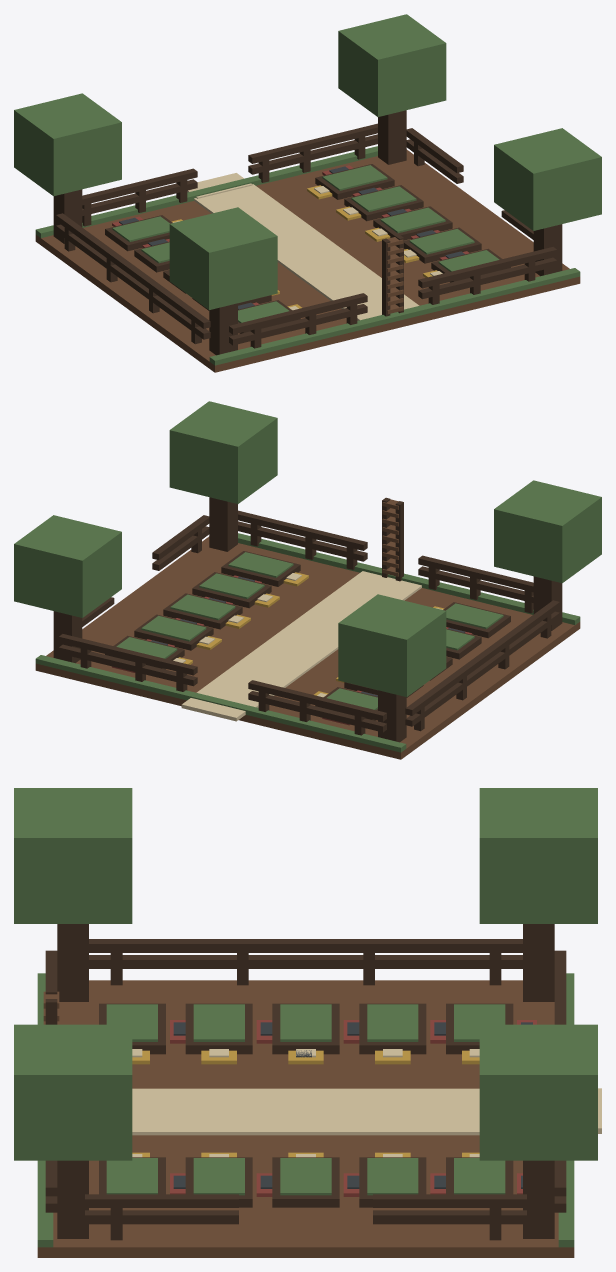
File: KLC_ForestPlot_Floor01.fbx
The picture shows the model from 3 angles, top to bottom: view 1: azimuth 30°, elevation 25°; view 2: azimuth 150°, elevation 25°; view 3: azimuth 270°, elevation 25°; orthographic projection. The views are drawn at different scales.
Visible parts, largest first — view 1: F01_MainDeck, F01_TreeLeaves_1, F01_TreeLeaves_2, F01_TreeLeaves_0, F01_TreeLeaves_3, F01_CenterPath, F01_GrassRimBack, F01_GrassRimFront, F01_FenceLeftTop, F01_FenceLeftLow, F01_FenceBackTop_L, F01_TreeTrunk_2 (+26 smaller); view 2: F01_MainDeck, F01_TreeLeaves_0, F01_TreeLeaves_3, F01_TreeLeaves_1, F01_TreeLeaves_2, F01_CenterPath, F01_GrassRimFront, F01_GrassRimBack, F01_FenceLeftTop, F01_FenceLeftLow, F01_FenceFrontTop_R, F01_TreeTrunk_3 (+26 smaller); view 3: F01_MainDeck, F01_CenterPath, F01_TreeLeaves_2, F01_TreeLeaves_3, F01_TreeLeaves_0, F01_TreeLeaves_1, F01_FenceLeftTop, F01_FenceLeftLow, F01_TreeTrunk_0, F01_TreeTrunk_1, F01_TreeTrunk_2, F01_TreeTrunk_3 (+26 smaller).
Part boxes in pixels (<box>): F01_MainDeck: <box>35,149,580,372</box>; F01_TreeLeaves_1: <box>169,207,277,310</box>; F01_TreeLeaves_2: <box>338,14,446,116</box>; F01_TreeLeaves_0: <box>14,93,121,196</box>; F01_TreeLeaves_3: <box>494,128,601,230</box>; F01_CenterPath: <box>194,184,419,320</box>; F01_GrassRimBack: <box>209,268,580,365</box>; F01_GrassRimFront: <box>35,146,377,237</box>; F01_FenceLeftTop: <box>56,213,210,328</box>; F01_FenceLeftLow: <box>56,224,210,339</box>; F01_FenceBackTop_L: <box>229,293,367,334</box>; F01_TreeTrunk_2: <box>378,110,406,164</box>; F01_MainDeck: <box>35,536,580,759</box>; F01_TreeLeaves_0: <box>338,594,446,697</box>; F01_TreeLeaves_3: <box>169,401,277,503</box>; F01_TreeLeaves_1: <box>494,480,601,583</box>; F01_TreeLeaves_2: <box>14,515,121,617</box>; F01_CenterPath: <box>196,571,421,707</box>; F01_GrassRimFront: <box>35,655,406,752</box>; F01_GrassRimBack: <box>238,533,580,624</box>; F01_FenceLeftTop: <box>405,600,559,715</box>; F01_FenceLeftLow: <box>405,611,559,726</box>; F01_FenceFrontTop_R: <box>58,634,197,675</box>; F01_TreeTrunk_3: <box>209,497,237,551</box>; F01_MainDeck: <box>37,980,574,1257</box>; F01_CenterPath: <box>132,1088,479,1135</box>; F01_TreeLeaves_2: <box>479,1024,597,1160</box>; F01_TreeLeaves_3: <box>14,1024,132,1160</box>; F01_TreeLeaves_0: <box>479,788,597,923</box>; F01_TreeLeaves_1: <box>14,788,132,923</box>; F01_FenceLeftTop: <box>89,939,522,952</box>; F01_FenceLeftLow: <box>89,955,522,968</box>; F01_TreeTrunk_0: <box>523,924,554,1001</box>; F01_TreeTrunk_1: <box>57,924,88,1001</box>; F01_TreeTrunk_2: <box>523,1160,554,1238</box>; F01_TreeTrunk_3: <box>57,1160,88,1238</box>.
Bounding box in the file's own units: 2150 × 675 × 1862.
Materials: 7 (7 with a texture image).
